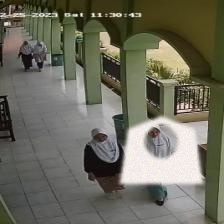Mukena: (119, 115, 203, 184)
